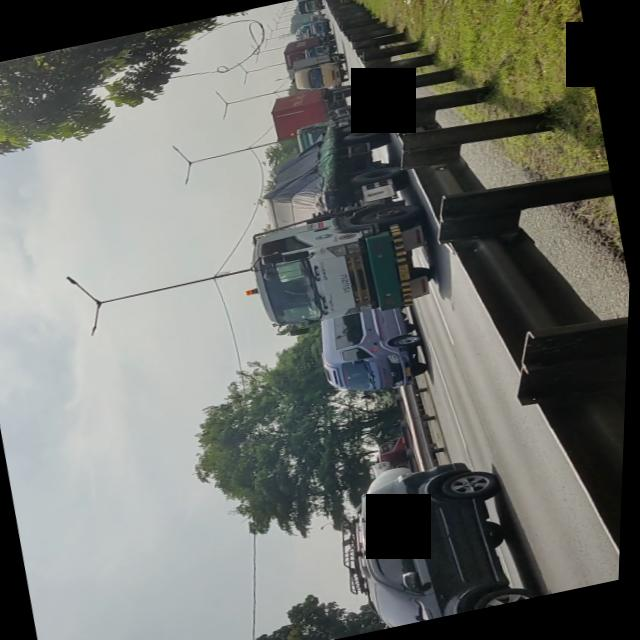Golongan IV: (215, 105, 455, 348)
